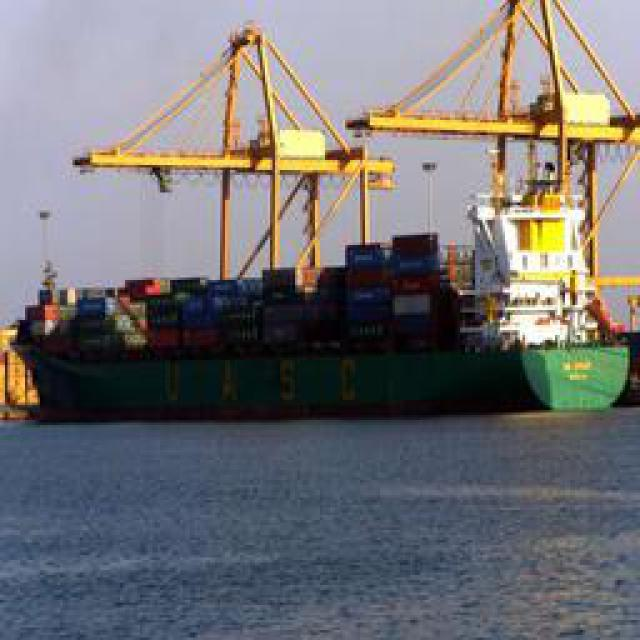Ship: (10, 9, 633, 422)
